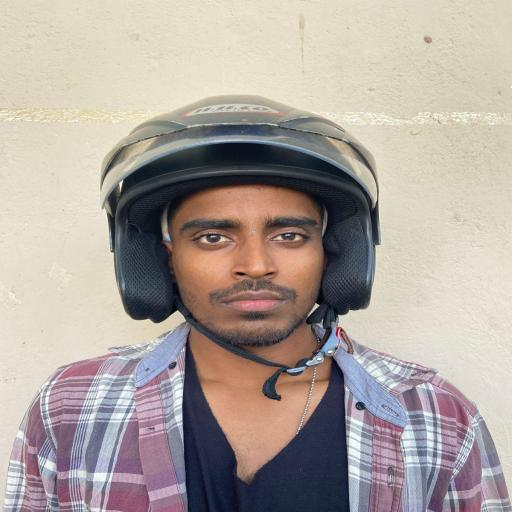with helmet: (98, 95, 382, 324)
